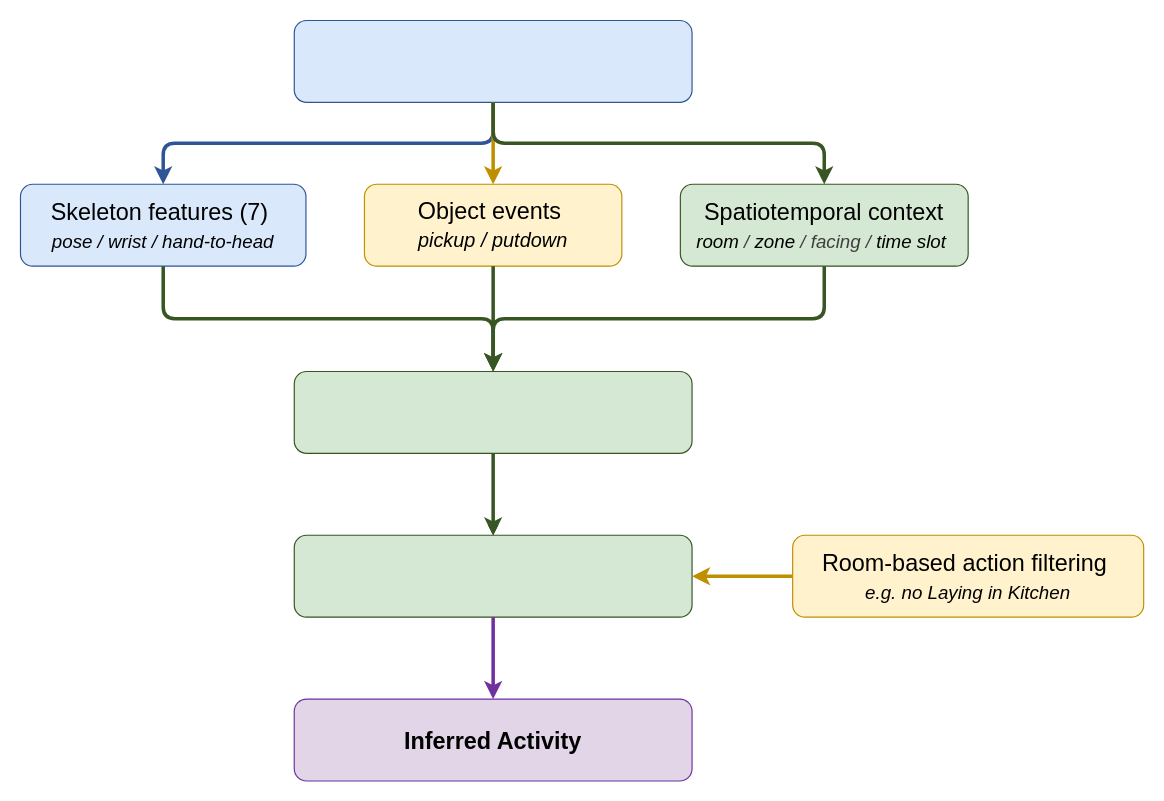
Image size: 1164x801. Some labels were removed from this diagram. The centre of each missing label's shape, as x and y in pixels:
Fixed Camera (event-driven capture): [492,60]
LLM reasoning Llama 3.1:8b: [492,575]
Scene description structured text for LLM: [492,411]
